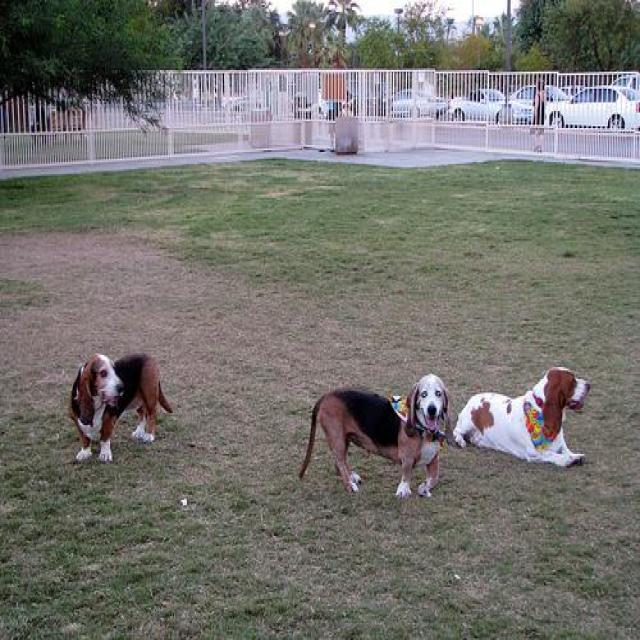basset: (296, 370, 454, 502), (452, 364, 591, 471), (68, 348, 175, 466)
